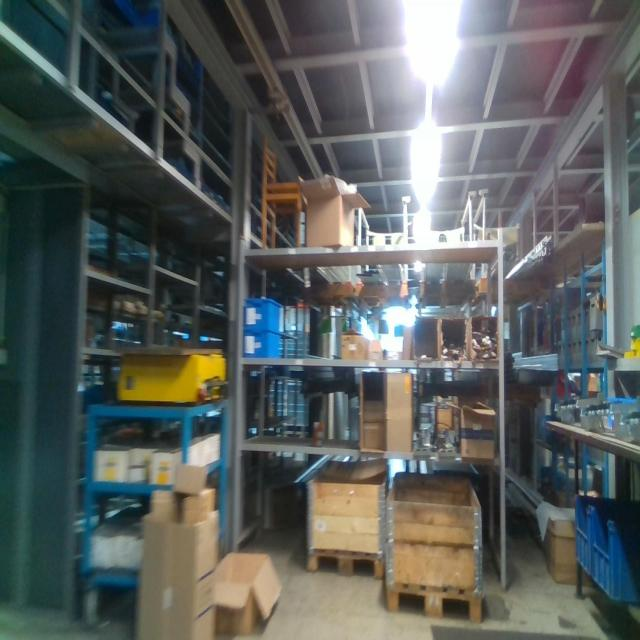pallet: (386, 577, 485, 625), (305, 546, 386, 583)
small_load_carrier: (570, 491, 635, 588), (591, 514, 638, 608), (240, 295, 282, 334), (240, 327, 286, 361)
